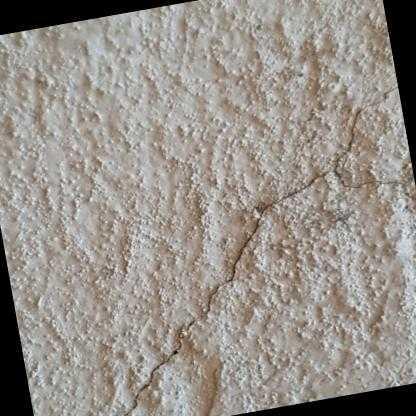crack: (109, 81, 416, 416)
